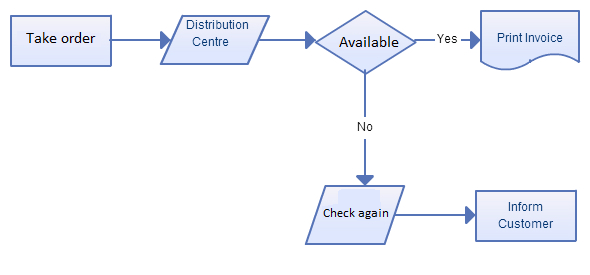arrow: (354, 70, 374, 185), (394, 205, 475, 226), (413, 30, 480, 48), (257, 30, 315, 50), (109, 31, 172, 48)
data: (302, 183, 404, 246), (159, 13, 270, 67)
decision: (315, 8, 416, 72)
process: (478, 8, 580, 72), (8, 14, 113, 68), (474, 189, 578, 243)
text: (183, 17, 250, 48), (497, 200, 554, 229), (25, 31, 96, 45), (337, 34, 398, 49), (495, 31, 563, 44), (323, 208, 389, 220), (435, 33, 459, 44), (354, 121, 374, 132)
